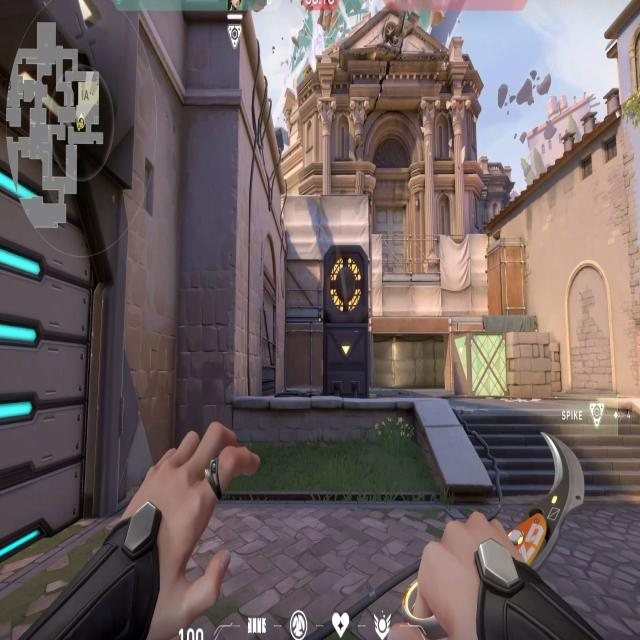A_Heaven_Box: (486, 240, 533, 328)
A_Heaven_Wall: (277, 188, 382, 320)
A_Hell: (371, 330, 462, 387)
A_Site_Box: (452, 330, 556, 400)
